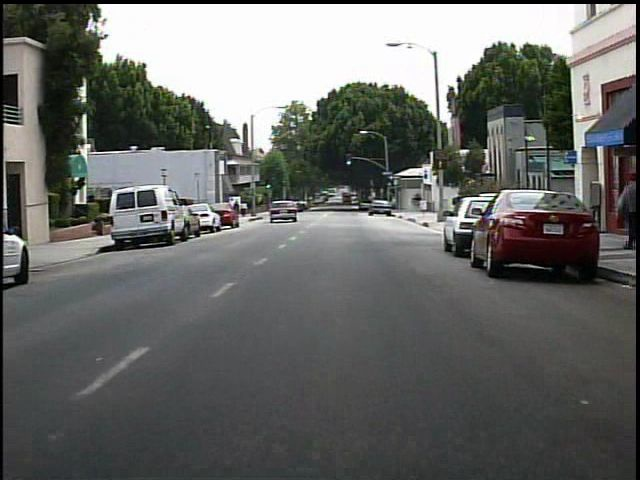person: (240, 199, 252, 221), (229, 197, 241, 218)
